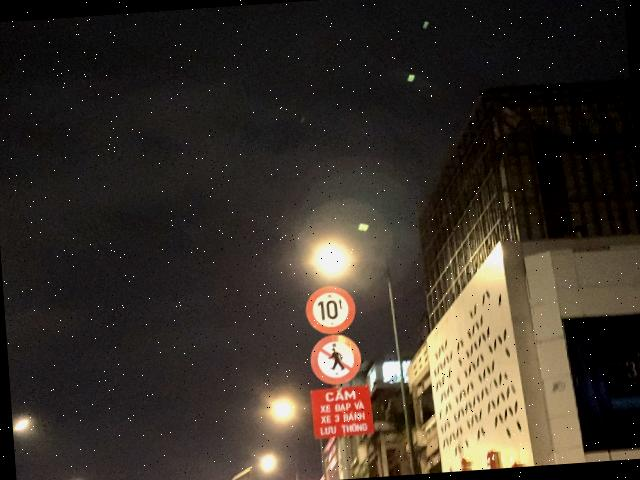cam-nguoi-di-bo: (308, 332, 363, 386)
han-che-trong-luong-xe: (304, 284, 356, 336)
